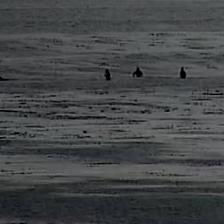surfer: (132, 67, 144, 78), (179, 66, 187, 79), (104, 68, 111, 80), (0, 72, 9, 80)
